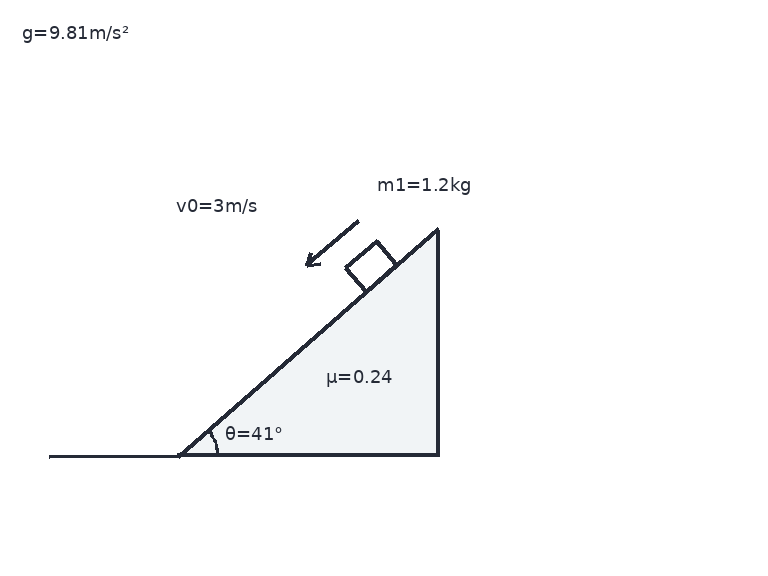block: (343, 239, 399, 293)
ramp: (175, 227, 439, 457)
